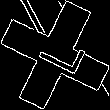L_NW: (26, 30, 84, 80)
